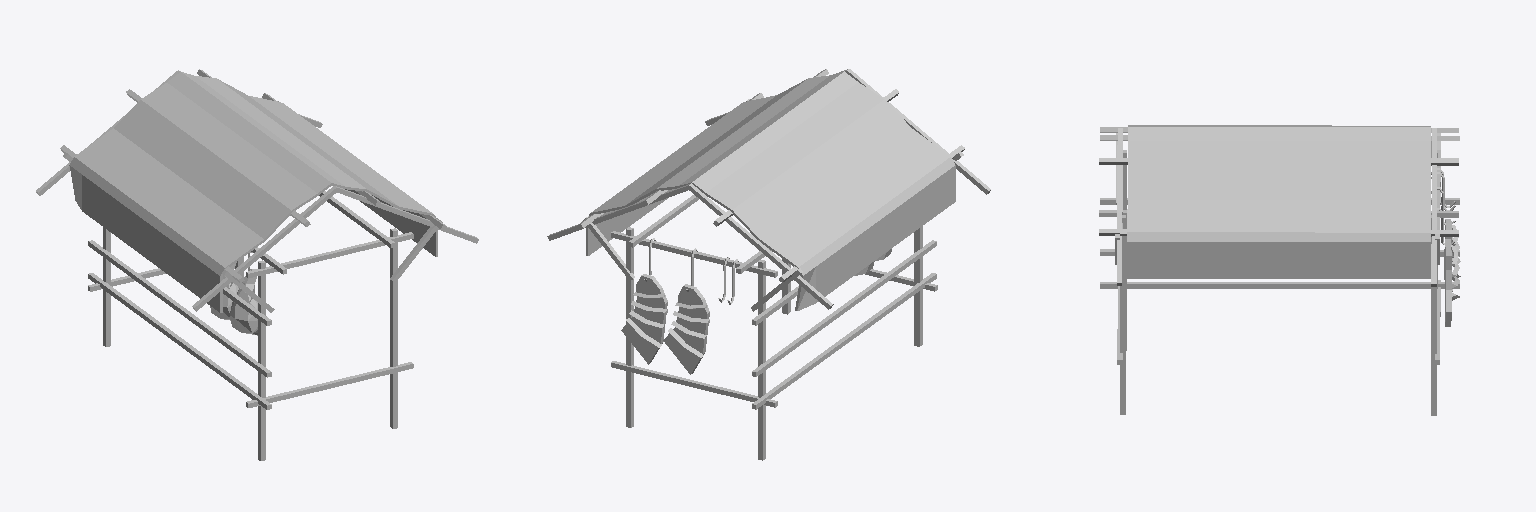
Rendered from stall_001.obj.
3 views of the same model, side by side, from view 1: azimuth 30°, elevation 25°; view 2: azimuth 150°, elevation 25°; view 3: azimuth 270°, elevation 25° (orthographic).
Parts seen in each view (by area): view 1: stall_001; view 2: stall_001; view 3: stall_001.
Part boxes in pixels (bbox=[...]): stall_001: bbox=[36, 69, 478, 460]; stall_001: bbox=[547, 69, 990, 460]; stall_001: bbox=[1099, 125, 1460, 415].
Bounding box in the file's own units: 2.98 × 2.57 × 3.27.